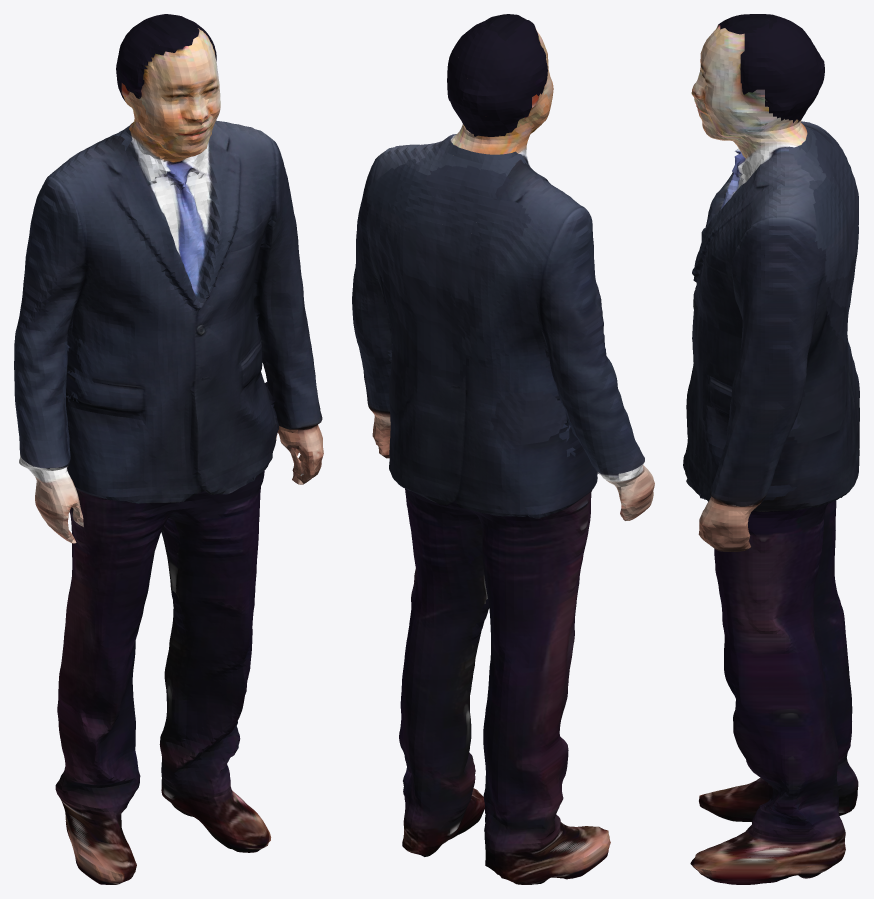
Rendered from TranVanNam.fbx.
The picture shows the model from 3 angles, left to right: view 1: azimuth 30°, elevation 25°; view 2: azimuth 150°, elevation 25°; view 3: azimuth 270°, elevation 25°; orthographic projection.
Parts seen in each view (by area): view 1: TranVanNam; view 2: TranVanNam; view 3: TranVanNam.
Part boxes in pixels (x1=…): TranVanNam: x1=14, y1=14, x2=323, y2=884; TranVanNam: x1=352, y1=14, x2=654, y2=884; TranVanNam: x1=683, y1=14, x2=859, y2=884.
Size of the model in its own units: 62.86 by 179 by 34.22.
Materials: 1 (1 with a texture image).
